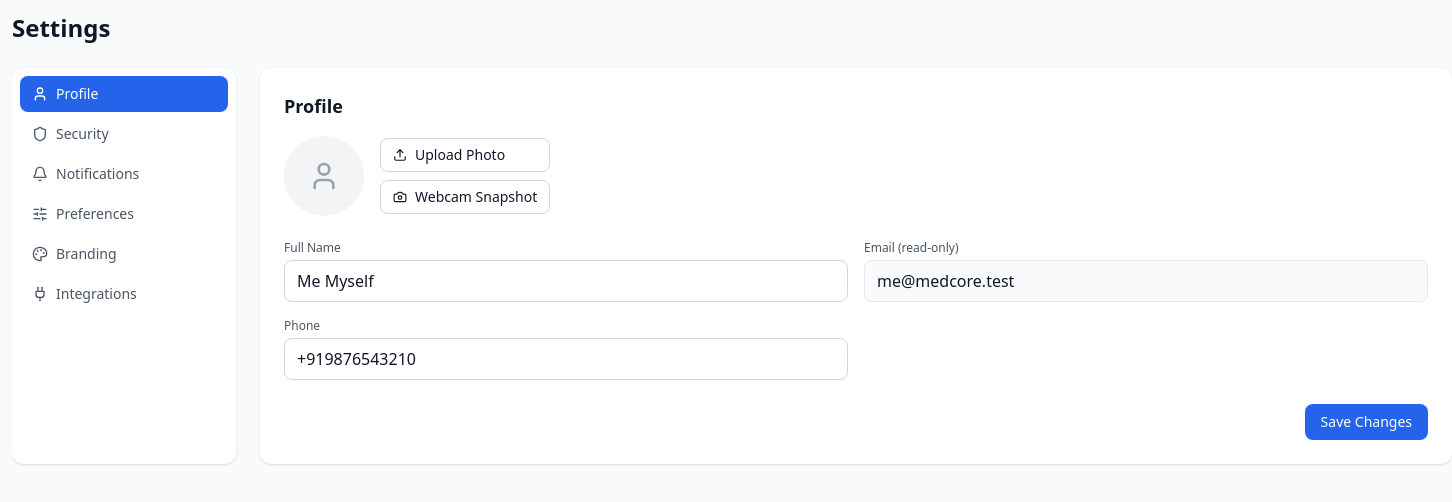
it: SettingsPage — Profile tab › surfaces field-level errors from the backend onto the name input
The width and height of the screenshot is (1452, 502).
Expected: the field with test id "profile-name" holds "Me Myself", x1=284 y1=260 x2=848 y2=302
Step 1. Click the button "Save Changes" → click(1366, 422), box x1=1305 y1=404 x2=1428 y2=440
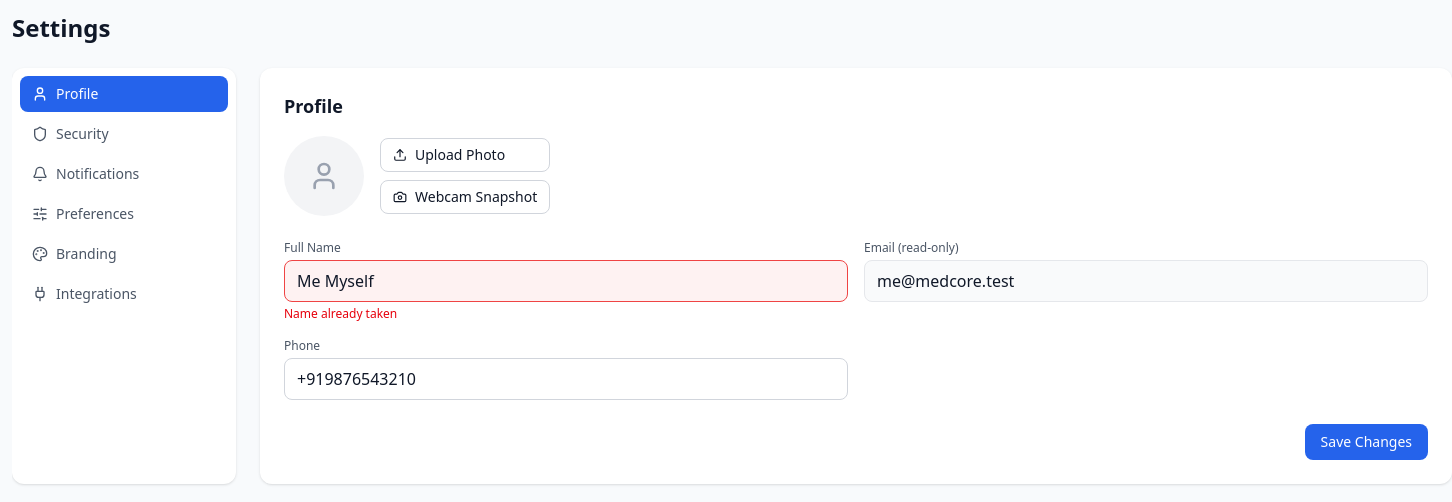
Result: the text "Name already taken" is shown at x1=284 y1=305 x2=397 y2=322
